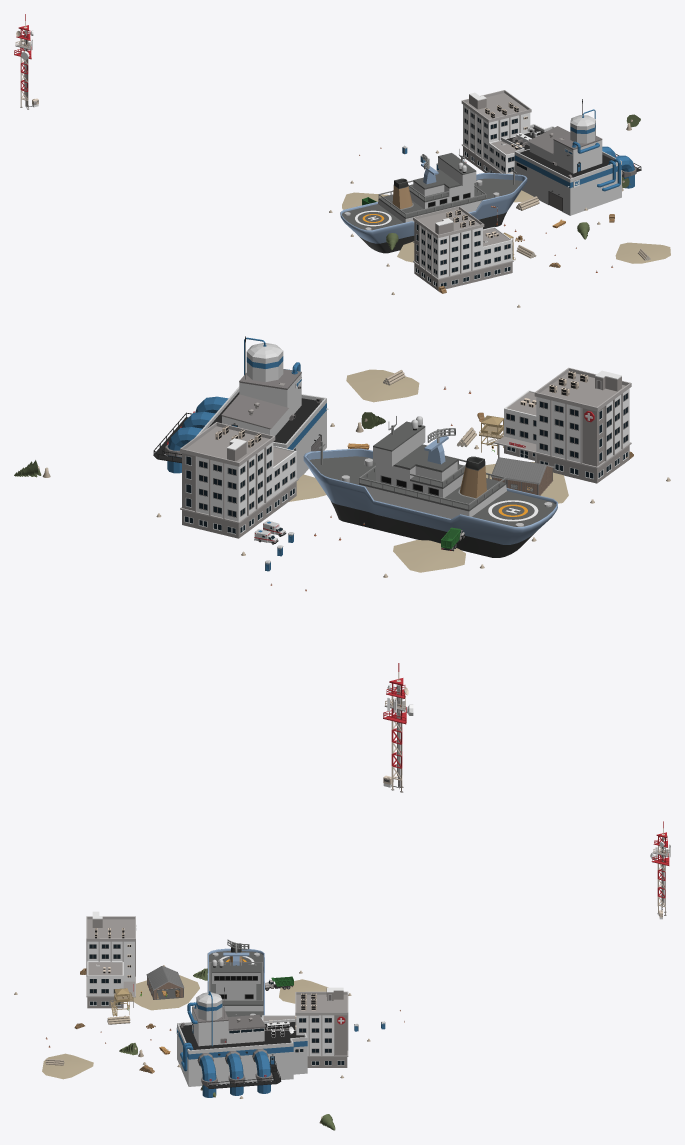
Rendered from Airports_2.glb.
3 renders of one model, top to bottom at view 1: azimuth 30°, elevation 25°; view 2: azimuth 150°, elevation 25°; view 3: azimuth 270°, elevation 25°, orthographic. The views are drawn at different scales.
Visible parts, largest first — view 1: A_Hospital__0, A_IceFactory__0, A_IceBreakerGren__0, A_IceBreakerGren__1, A_LumberCamp__0, A_LumberCamp__1, A_LumberCamp__3; view 2: A_Hospital__0, A_IceBreakerGren__0, A_IceFactory__0, A_IceBreakerGren__1, A_LumberCamp__0, A_LumberCamp__7, A_Hospital__0_1; view 3: A_IceFactory__0, A_Hospital__0, A_IceBreakerGren__0, A_LumberCamp__0, A_LumberCamp__5, A_IceBreakerGren__1, A_LumberCamp__7, A_LumberCamp__3, A_Hospital__0_1.
Part boxes in pixels (box(x1,y1,x2,y2)): A_Hospital__0: box(14, 14, 531, 290); A_IceFactory__0: box(501, 99, 641, 215); A_IceBreakerGren__0: box(342, 148, 522, 253); A_IceBreakerGren__1: box(340, 163, 527, 243); A_LumberCamp__0: box(342, 190, 670, 263); A_LumberCamp__1: box(329, 119, 648, 307); A_LumberCamp__3: box(386, 114, 640, 250); A_Hospital__0: box(180, 367, 631, 792); A_IceBreakerGren__0: box(309, 416, 555, 557); A_IceFactory__0: box(153, 336, 328, 478); A_IceBreakerGren__1: box(303, 436, 557, 544); A_LumberCamp__0: box(289, 369, 568, 572); A_LumberCamp__7: box(492, 457, 553, 482); A_Hospital__0_1: box(384, 446, 494, 723); A_IceFactory__0: box(176, 987, 307, 1097); A_Hospital__0: box(86, 821, 668, 1067); A_IceBreakerGren__0: box(208, 939, 263, 1018); A_LumberCamp__0: box(42, 975, 328, 1079); A_LumberCamp__5: box(46, 968, 184, 1073); A_IceBreakerGren__1: box(207, 948, 264, 1015); A_LumberCamp__7: box(147, 966, 183, 989); A_LumberCamp__3: box(119, 968, 335, 1130); A_Hospital__0_1: box(128, 832, 670, 1010).
Bounding box in the file's own units: 523 × 117 × 657.
22 materials, 12 textured.
